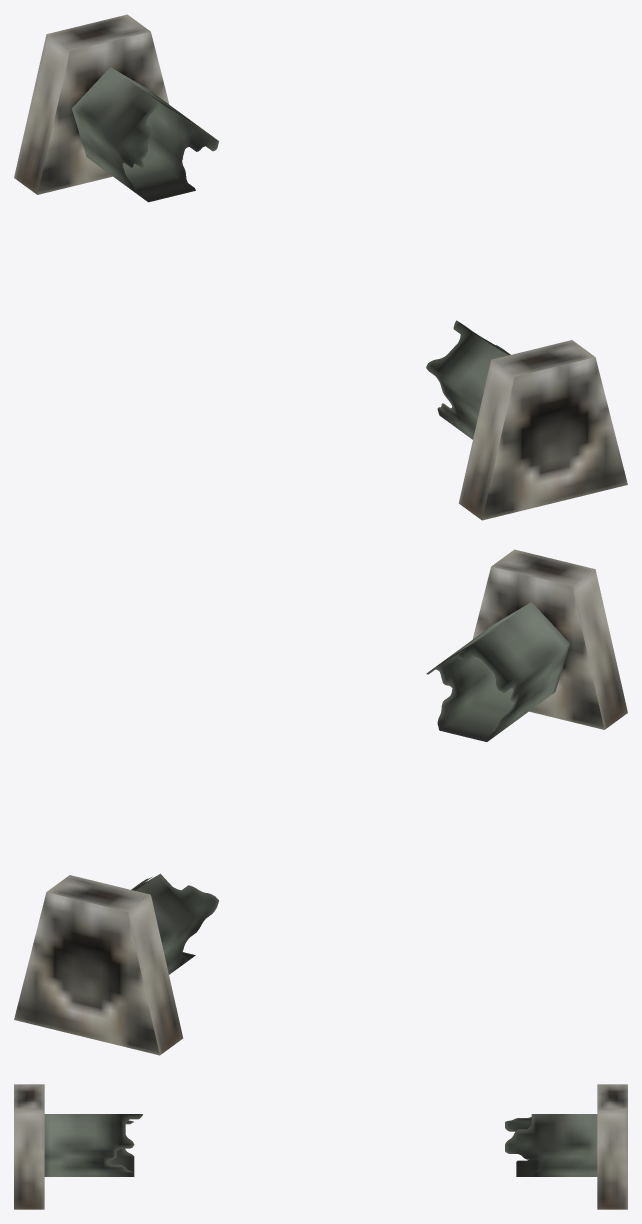
File: straightpipe2_dam.glb
3 renders of one model, top to bottom at view 1: azimuth 30°, elevation 25°; view 2: azimuth 150°, elevation 25°; view 3: azimuth 270°, elevation 25°, orthographic. The views are drawn at different scales.
Visible parts, largest first — view 1: sp2; view 2: sp2; view 3: sp2.
Boxes of the visible parts, x1,y1,x2,y2 form: sp2: (14, 14, 627, 520); sp2: (14, 549, 627, 1055); sp2: (14, 1084, 627, 1209).
Size of the model in its own units: 3.07 by 2.73 by 17.04.
1 material, 1 textured.
